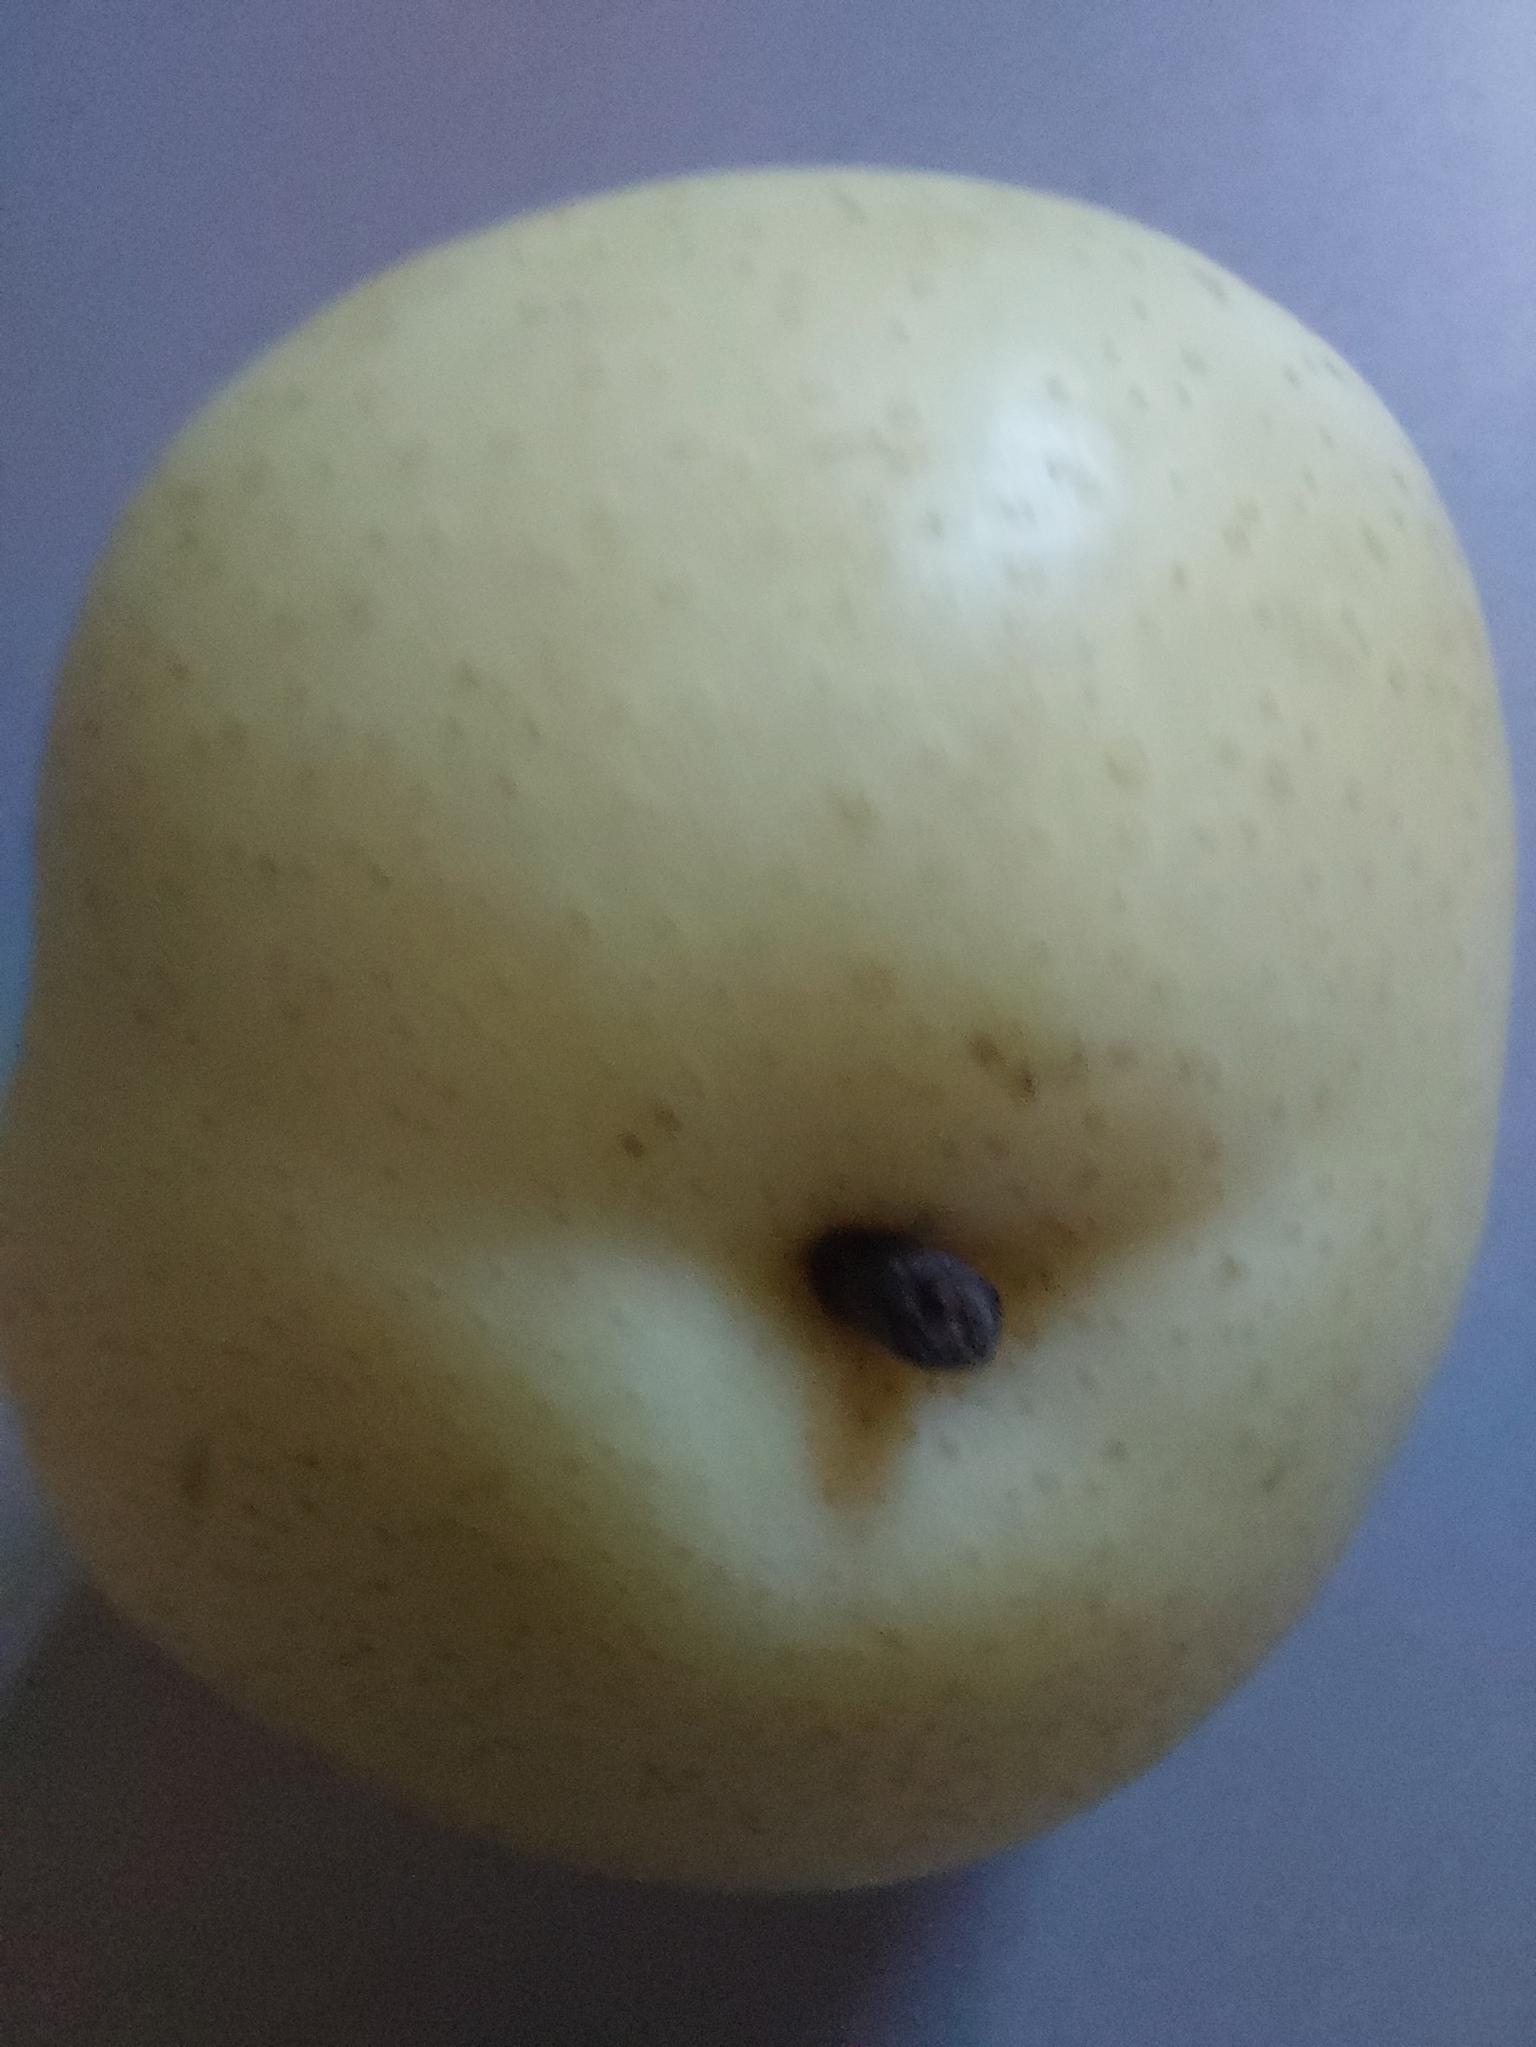Good Pear: (16, 119, 1536, 1966)
